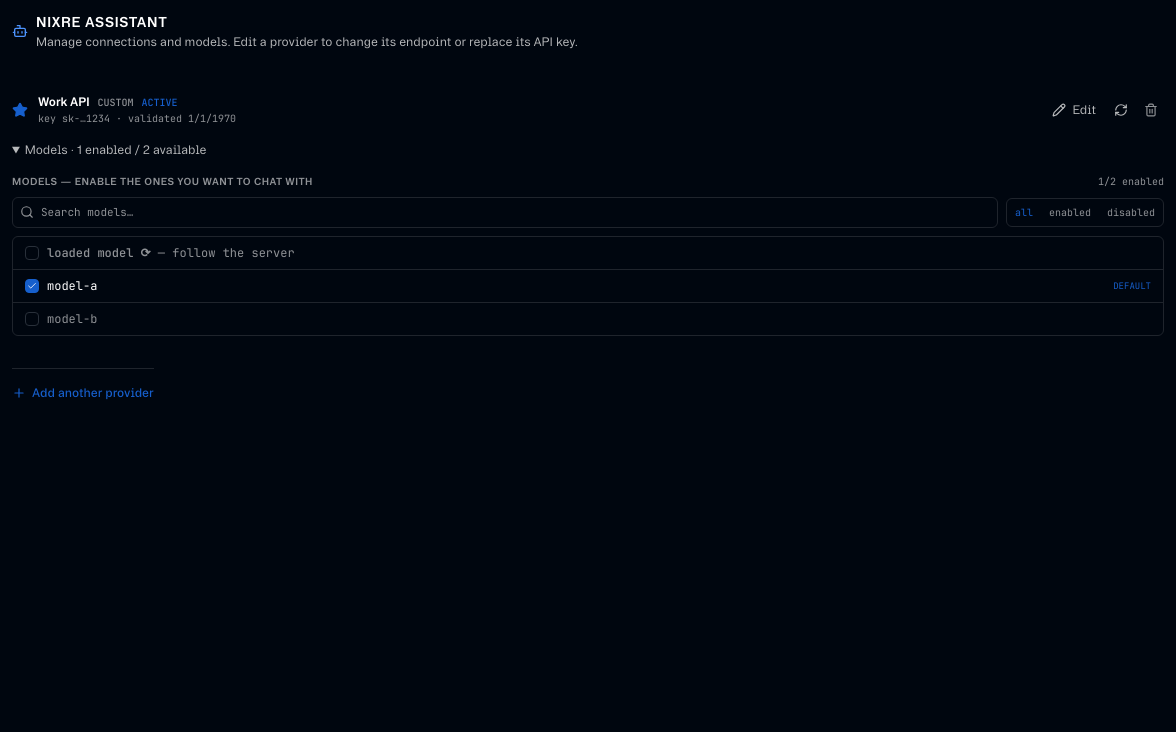
Scenario: Editing providers › replaces credentials and endpoint on the same provider
The width and height of the screenshot is (1176, 732).
Click the button with aria-label "Edit Work API". click: (1074, 110)
box: [1044,96,1104,124]
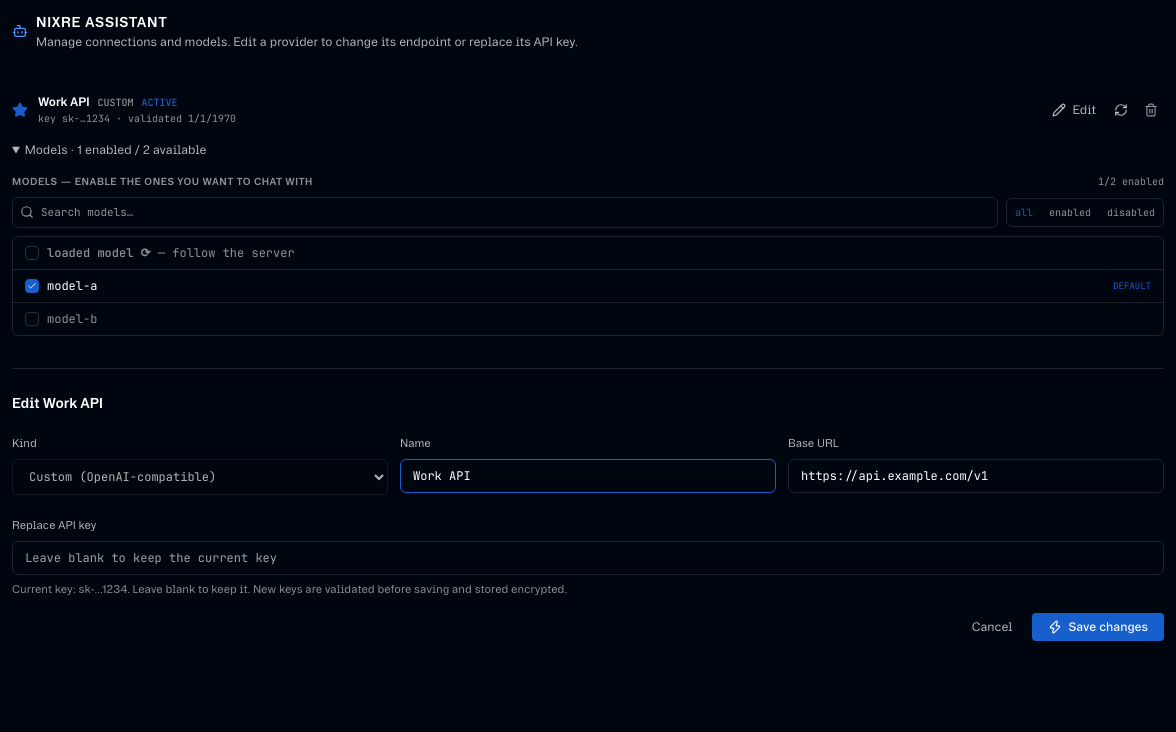
Type "new-test-key" into the password field labelled "Replace API key". click: (588, 558)
box: [12,540,1164,574]
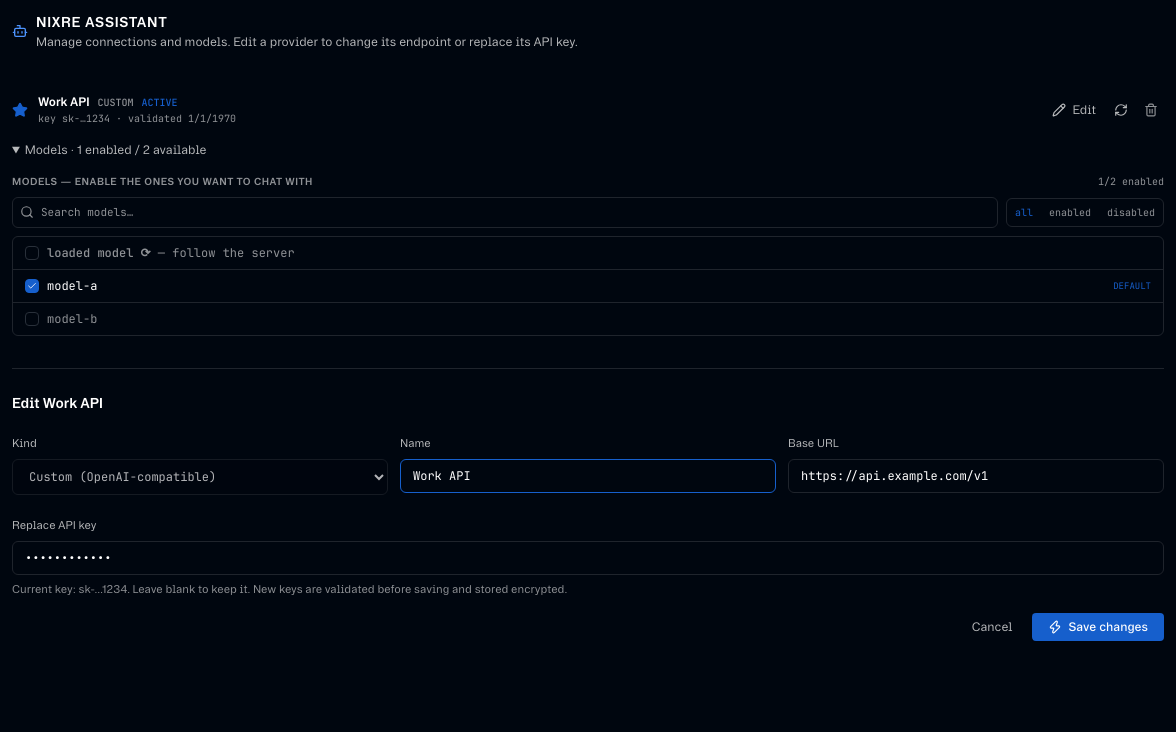
Replace the text in the field labelled "Base URL" with "https://new.example.com/v1". click: (976, 476)
box: [788,458,1164,492]
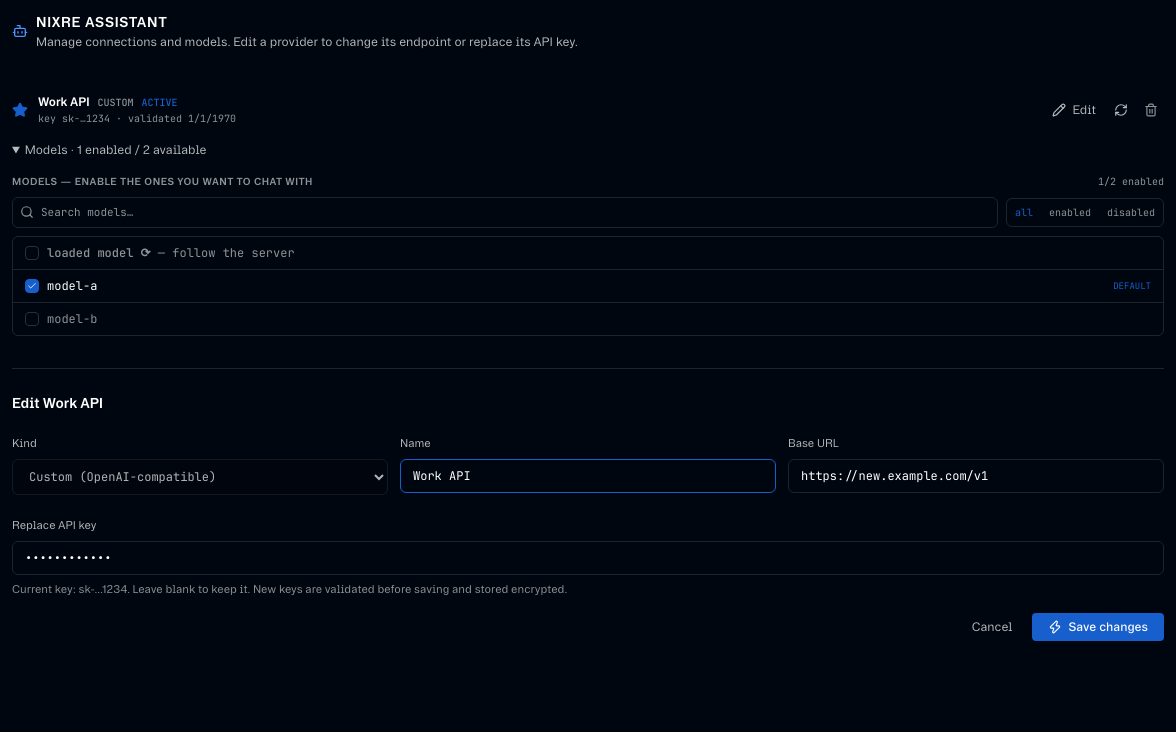
Click the button "Save changes". click: (1098, 627)
box: [1032,613,1164,641]
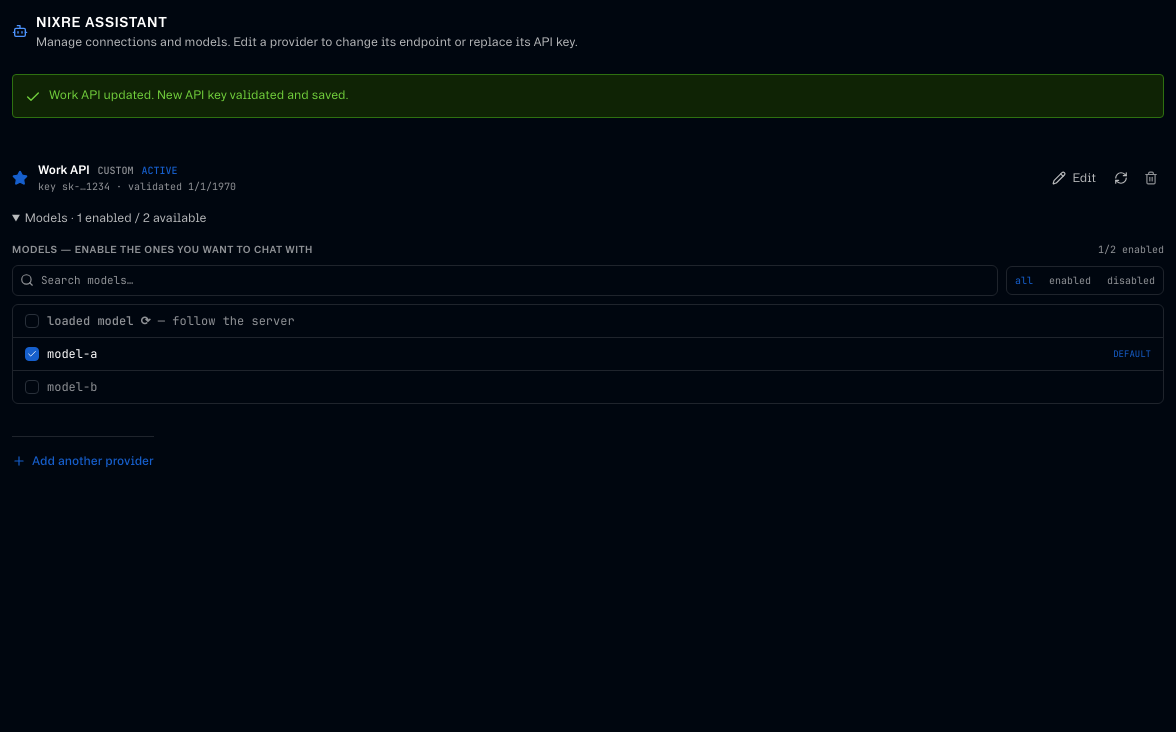
expect the message shows "New API key validated": met, box [49,88,349,101]
expect the form is gone: met
